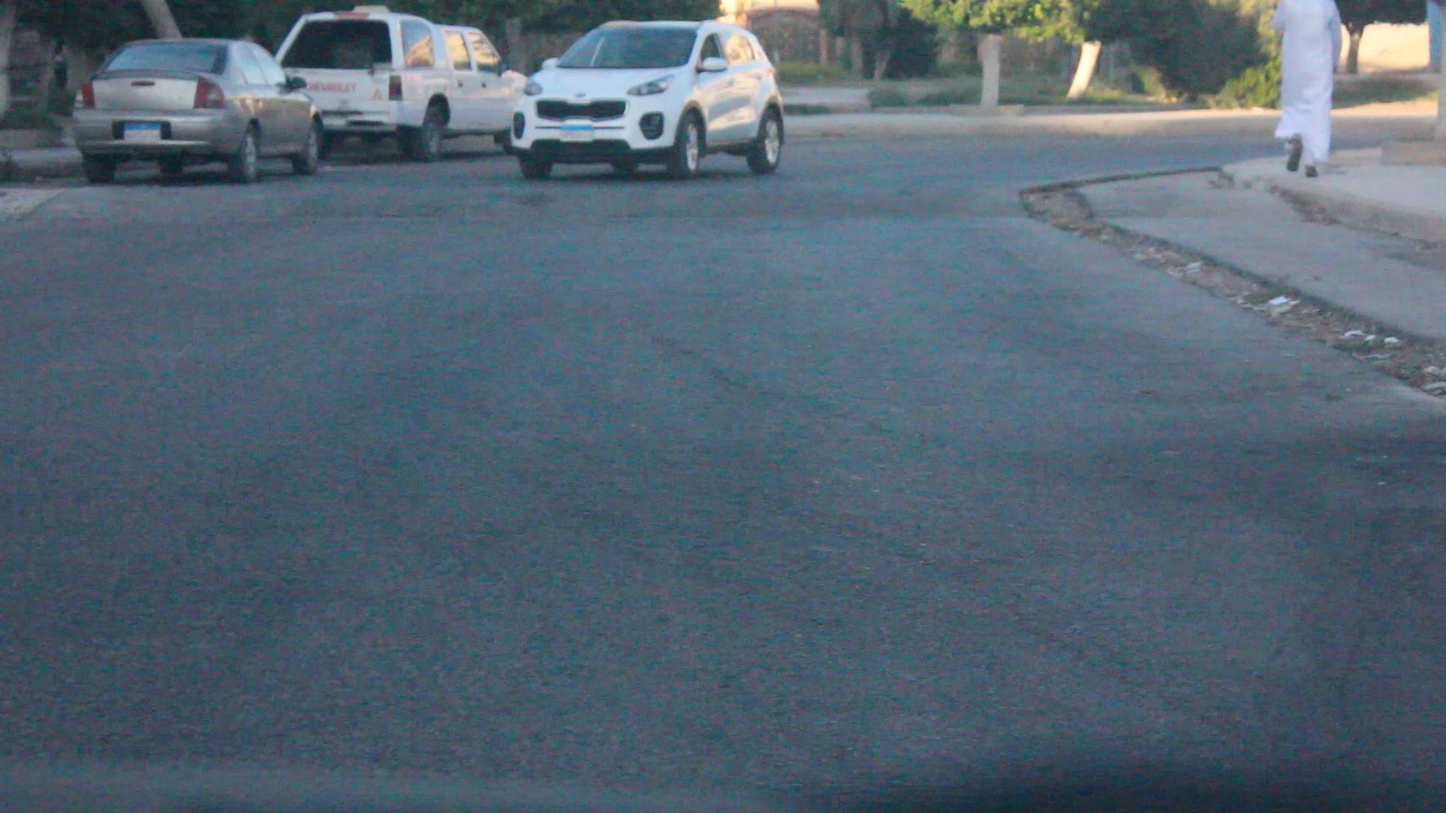Bump: (17, 159, 1025, 215)
